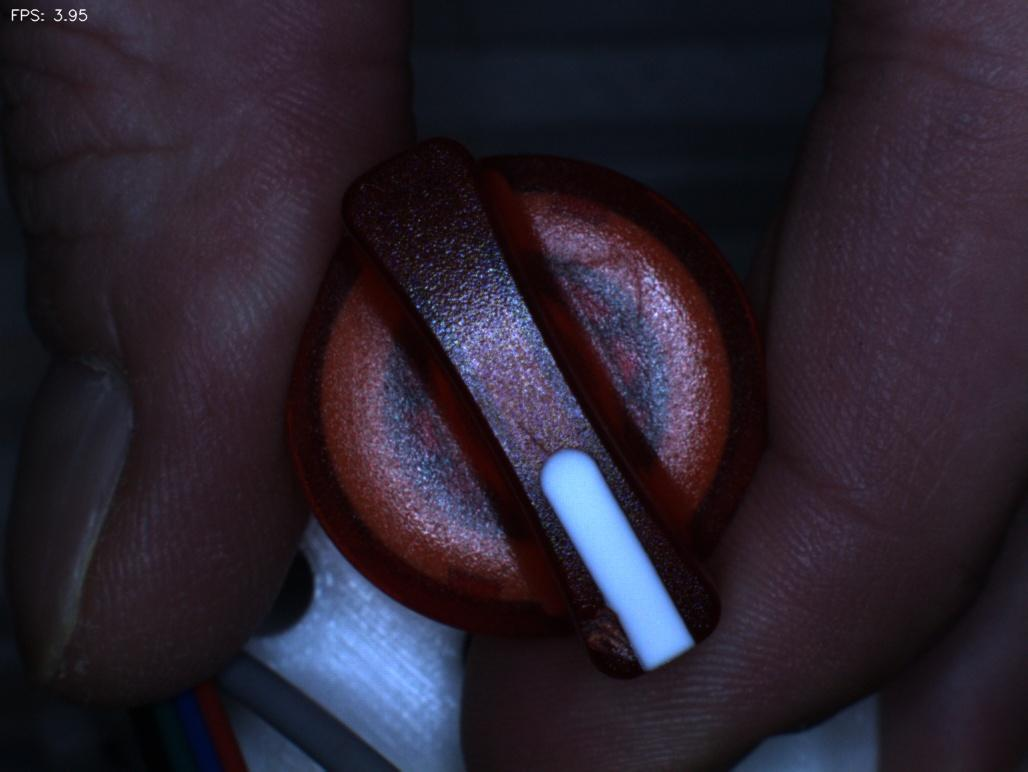Choc: (552, 592, 654, 685)
